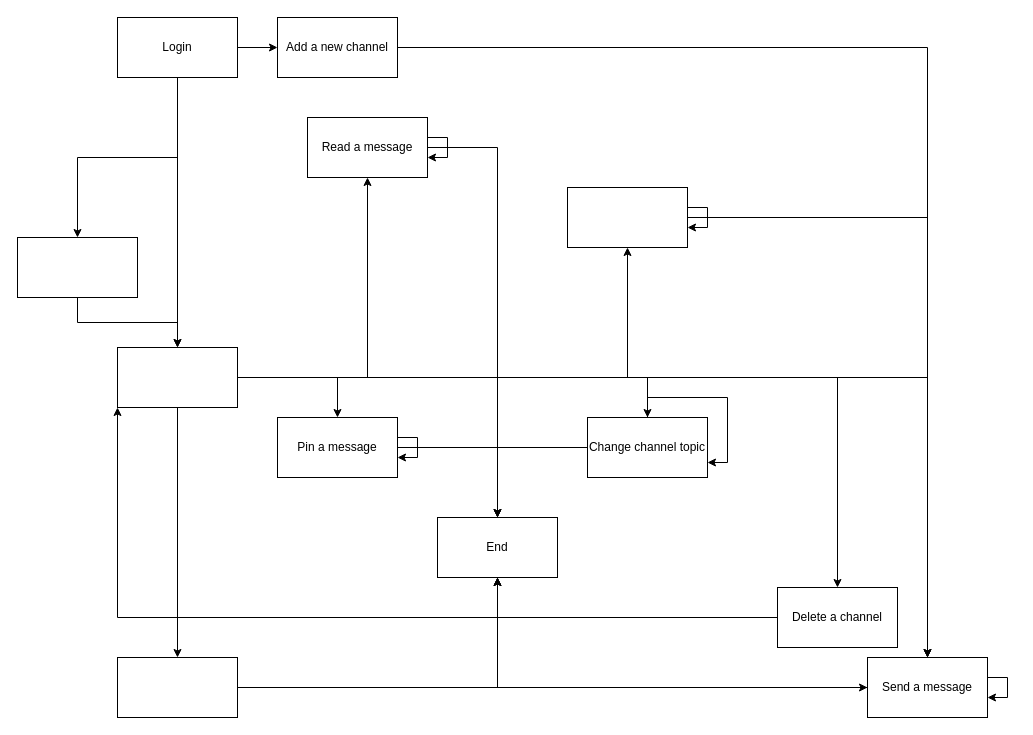
The diagram is 1033 pixels wide and 735 high, and some of its shapes have lost their labels. Each missing label, with the centre of its shape:
"Download files" goes at (x=627, y=217).
"Open file" goes at (x=177, y=687).
"Search a channel" goes at (x=77, y=267).
"Select a channel" goes at (x=177, y=377).
